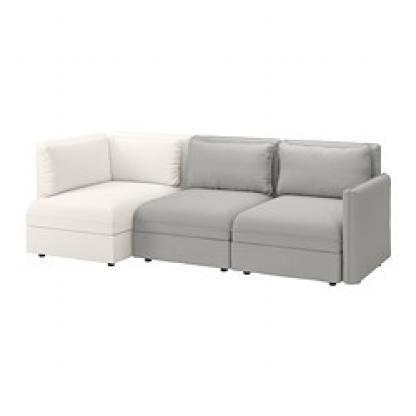Sofa: (17, 121, 396, 303)
